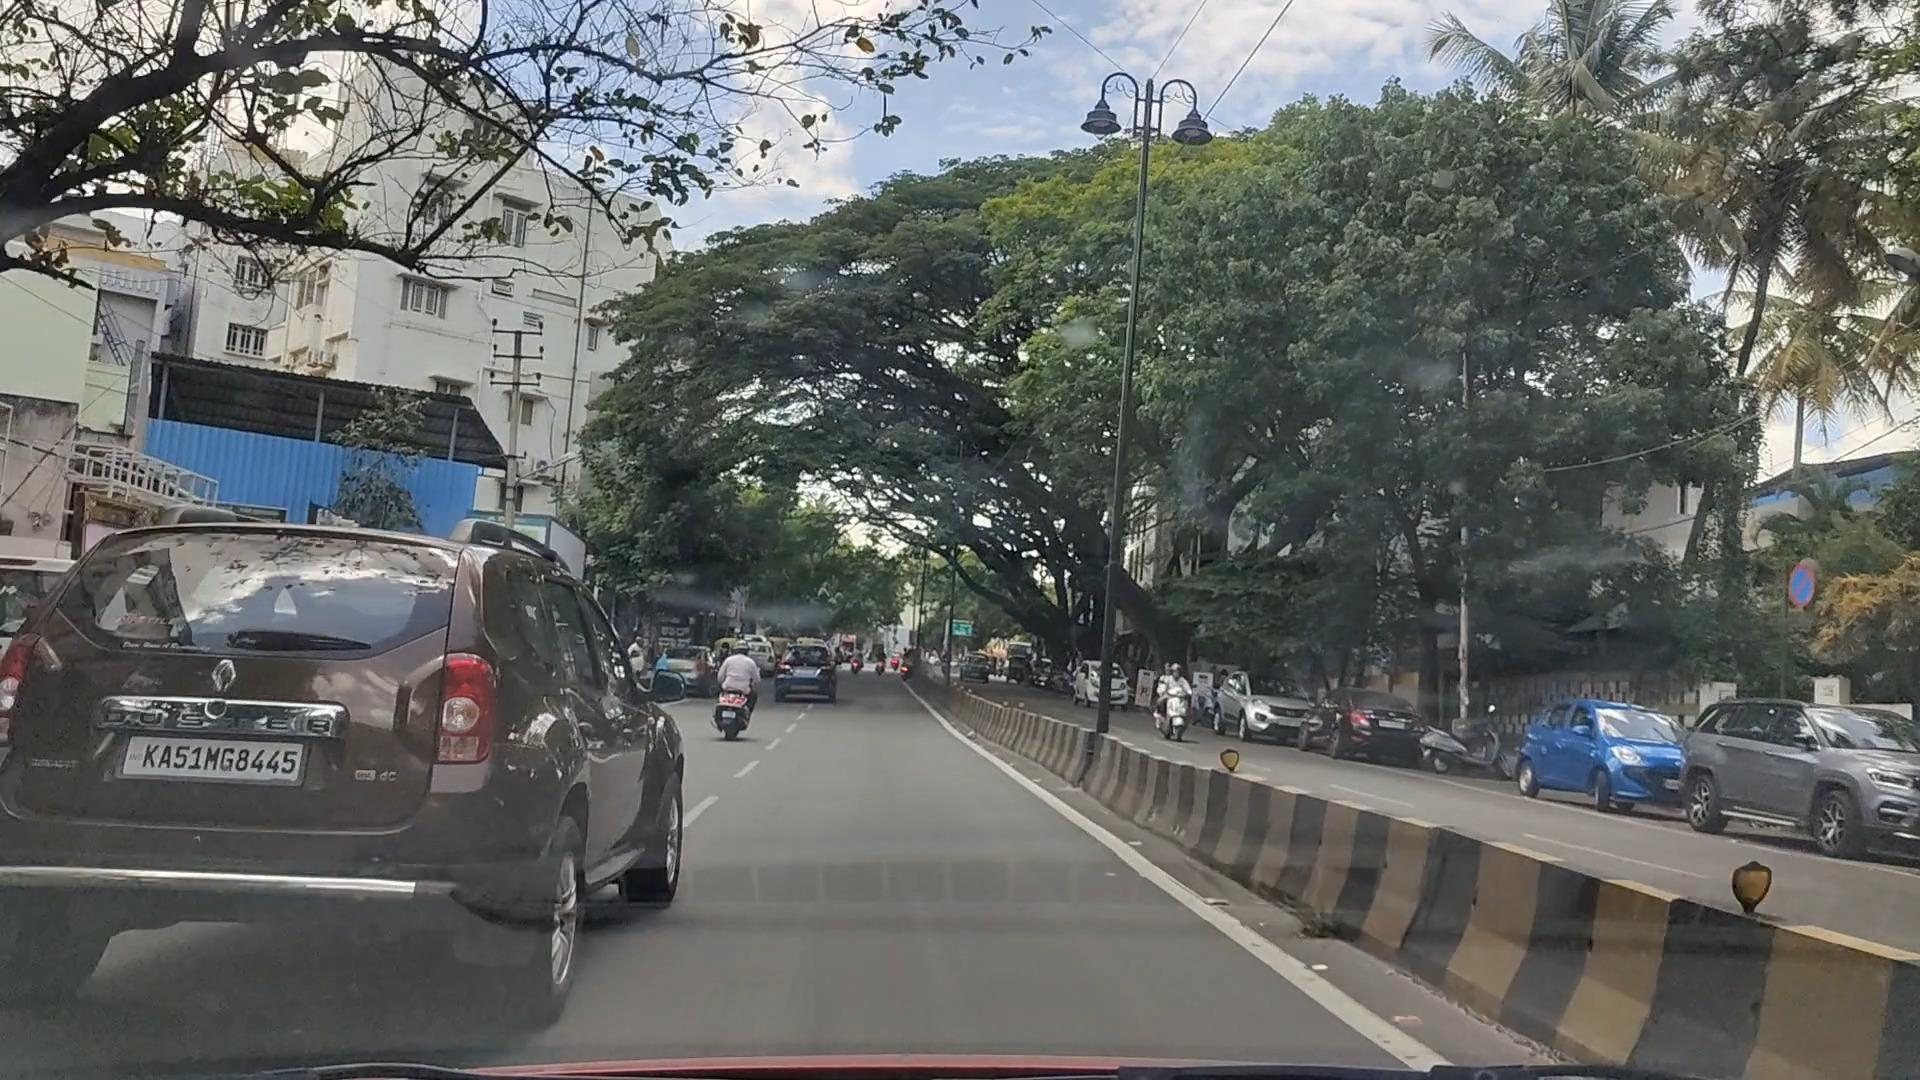LMV: (0, 513, 703, 1042)
